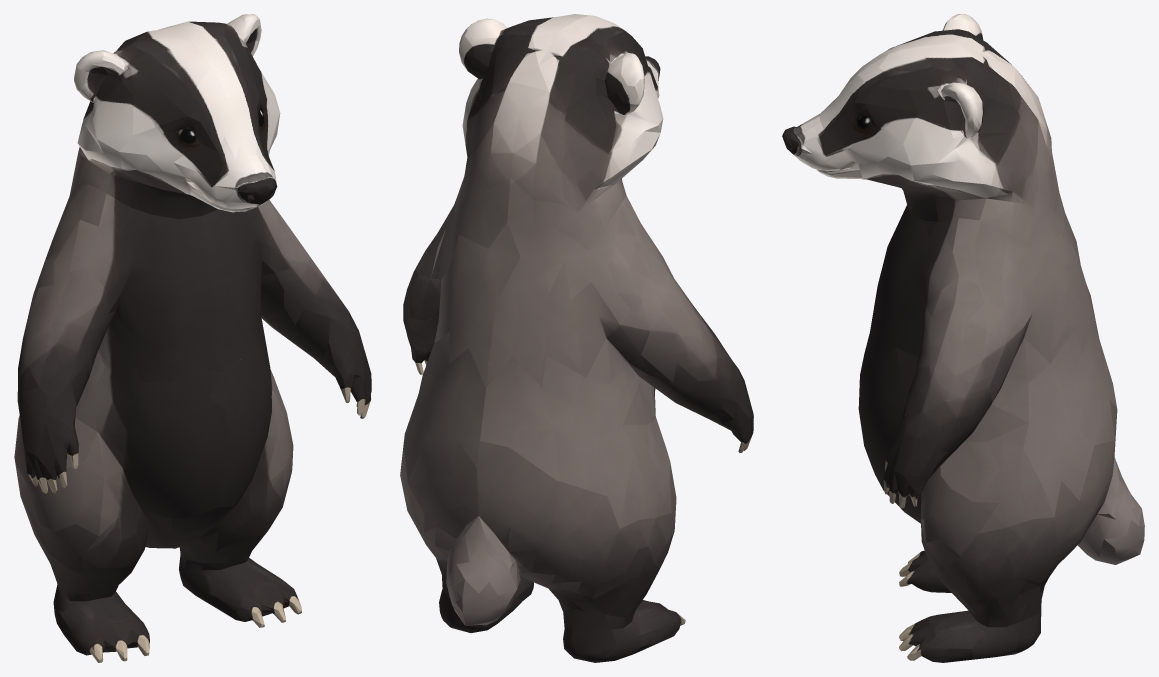
Rendered from badger.glb.
The picture shows the model from 3 angles, left to right: view 1: azimuth 30°, elevation 25°; view 2: azimuth 150°, elevation 25°; view 3: azimuth 270°, elevation 25°; orthographic projection. The views are drawn at different scales.
Visible parts, largest first — view 1: output_unwrapped; view 2: output_unwrapped; view 3: output_unwrapped.
Boxes of the visible parts, bbox=[...] form: output_unwrapped: bbox=[14, 14, 371, 662]; output_unwrapped: bbox=[400, 14, 753, 662]; output_unwrapped: bbox=[782, 14, 1144, 662].
Bounding box in the file's own units: 1.15 × 1.9 × 1.1.
Materials: 1 (1 with a texture image).
